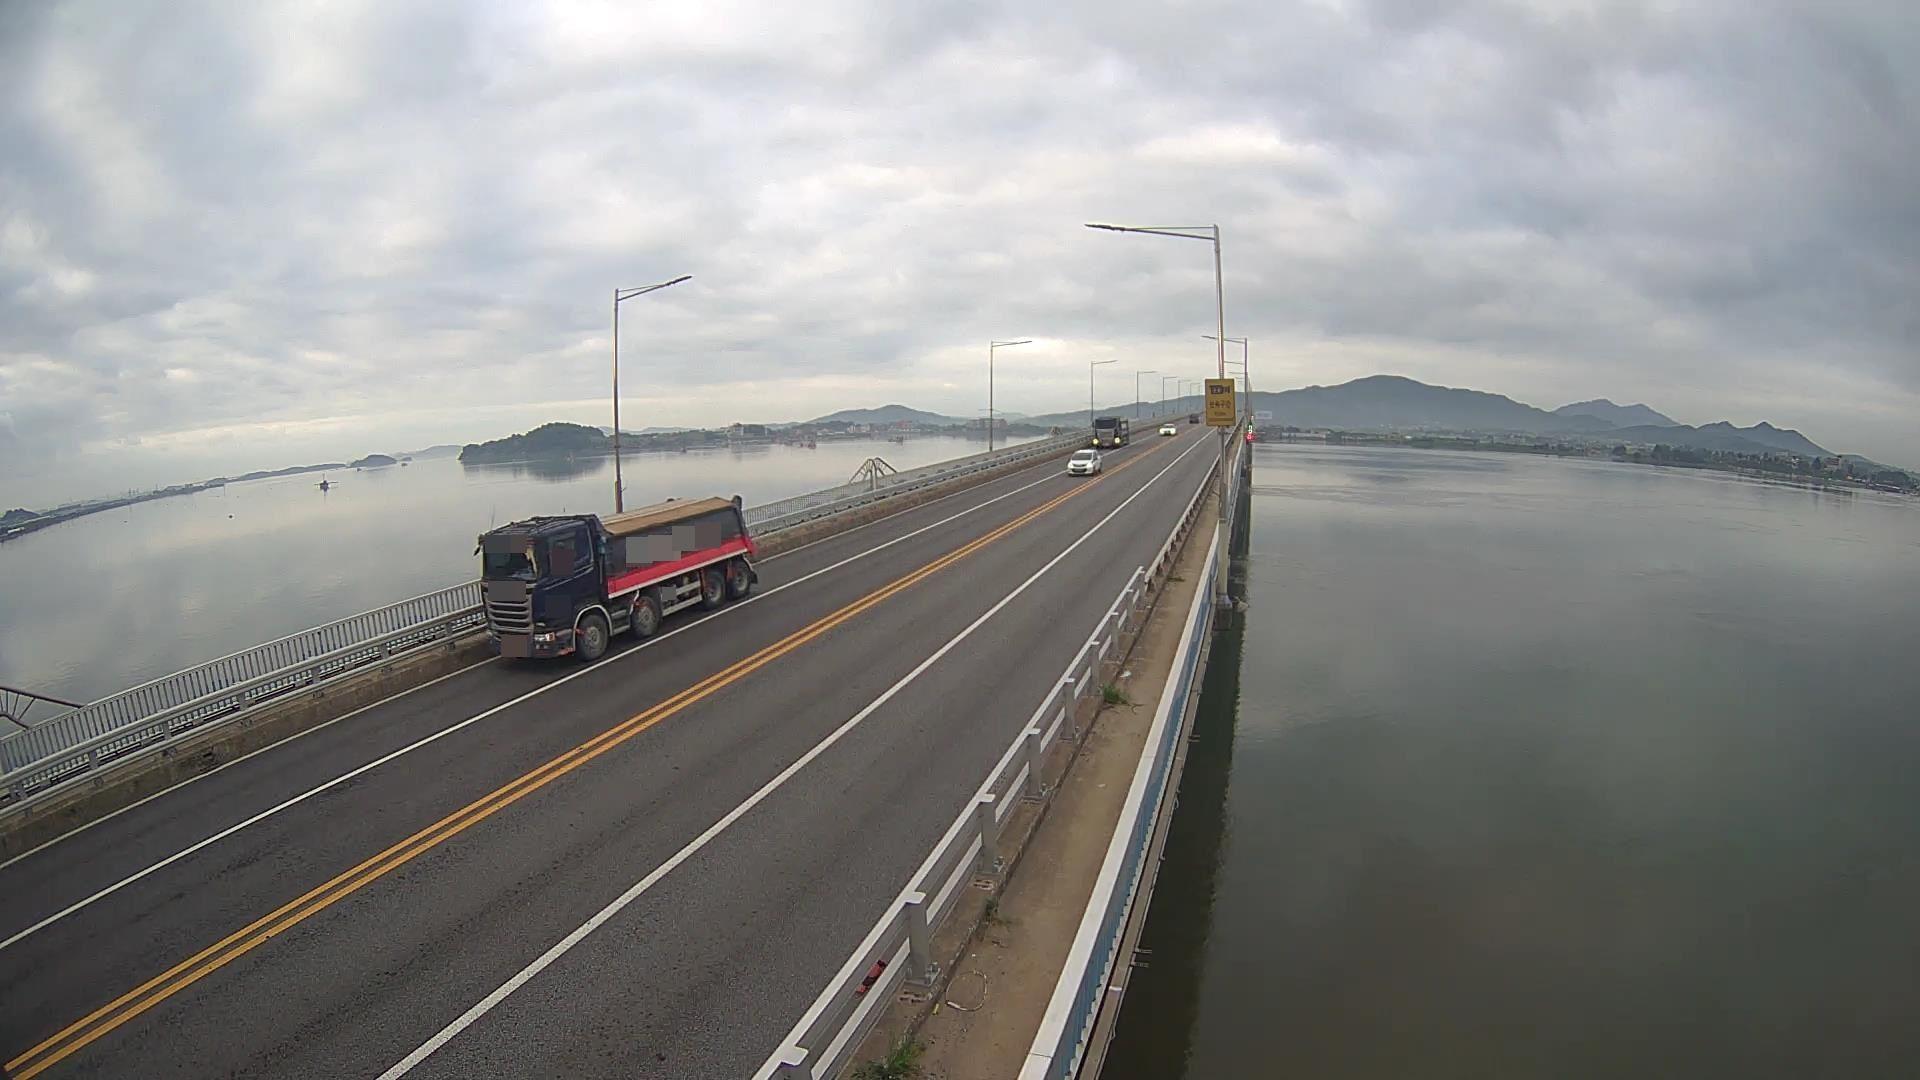정상차량: (473, 495, 760, 662)
